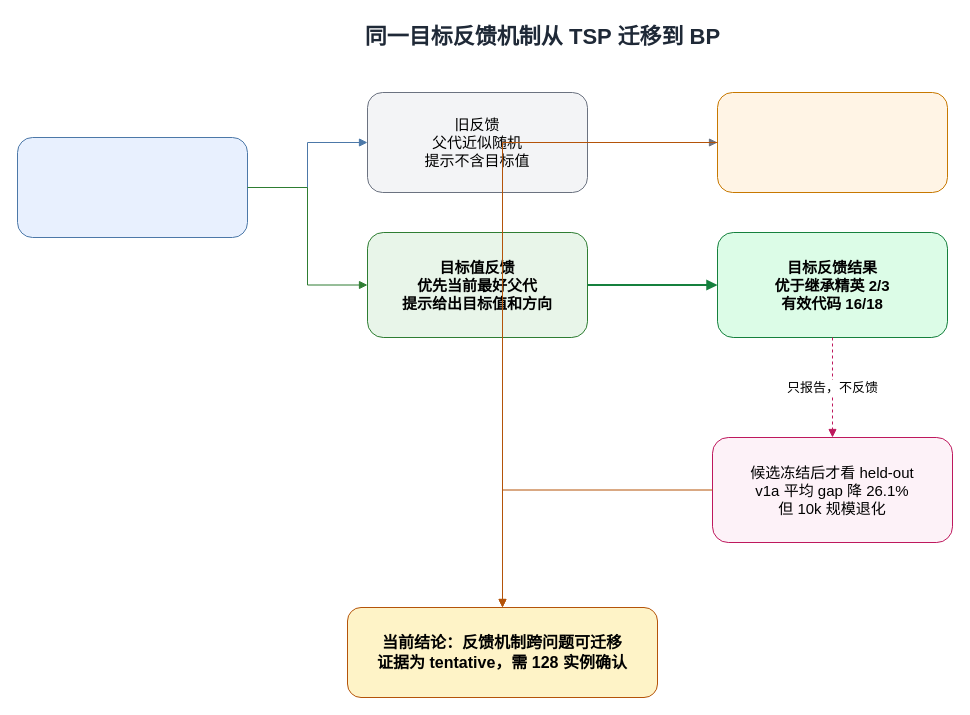
The diagram is 970 pixels wide and 715 high, and some of its shapes have lost their labels. Here are the shapes that lost their labels. From the top down, the box of each, then its label:
(716, 92, 948, 192): 旧反馈结果 优于继承精英 0/3 有效代码 14/18
(16, 136, 248, 238): 相同冻结输入 4 个历史 BP 精英 相同 seed / 预算 / 模型
